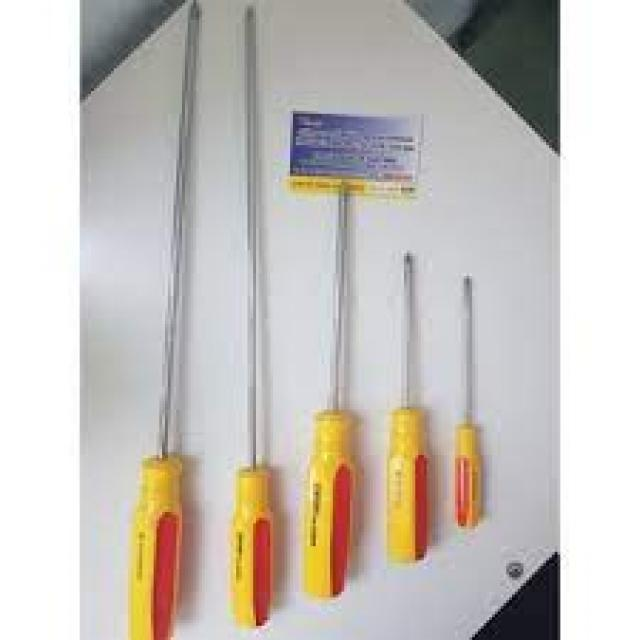screwdriver: (122, 0, 202, 640), (224, 1, 278, 636), (297, 178, 360, 602), (383, 250, 431, 572), (454, 272, 486, 536)
